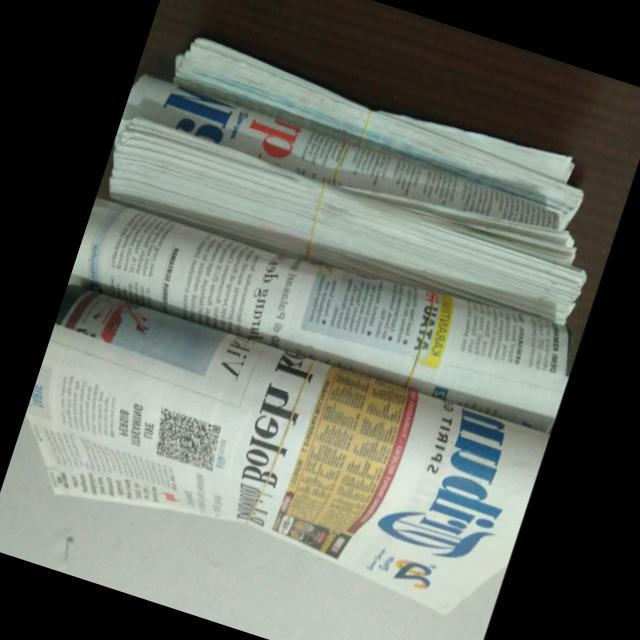Koran: (2, 19, 636, 636), (4, 275, 552, 637), (67, 176, 584, 440)
